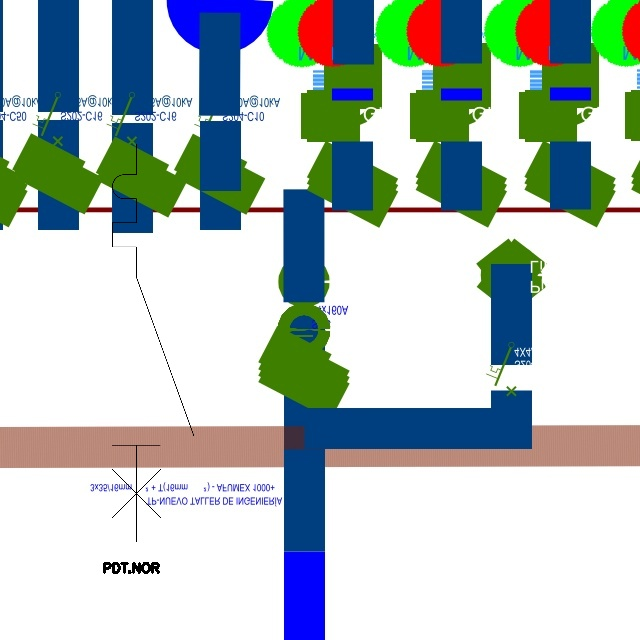interruptor_termomagnetico: (102, 134, 204, 552)
